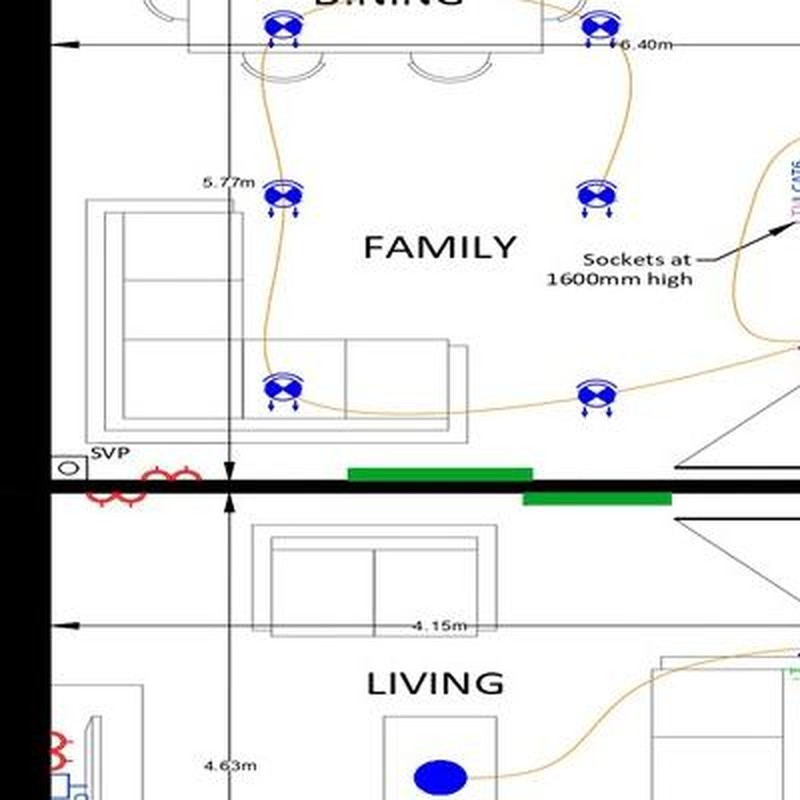Cat 6 Data Socket: (50, 774, 87, 800)
Double Socket: (50, 732, 75, 774), (86, 493, 146, 510), (141, 465, 203, 480)
Low Energy Downlighter: (580, 9, 622, 49), (263, 372, 304, 411), (263, 180, 303, 219), (576, 181, 617, 219), (577, 380, 617, 418), (263, 11, 304, 48)
Low Energy Pendant Light: (414, 760, 468, 795)
Radiator: (348, 468, 534, 483), (522, 493, 672, 505)
